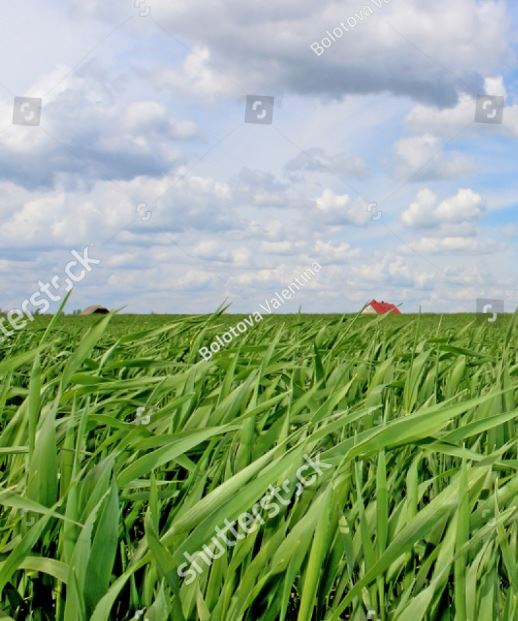Wheat: (21, 364, 504, 621)
